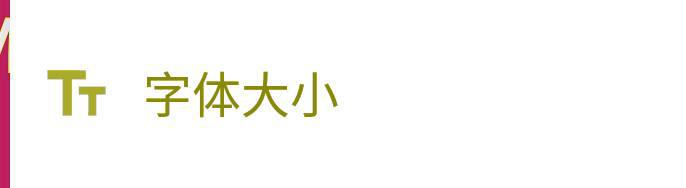CheckedTextView: (1, 1, 685, 187)
